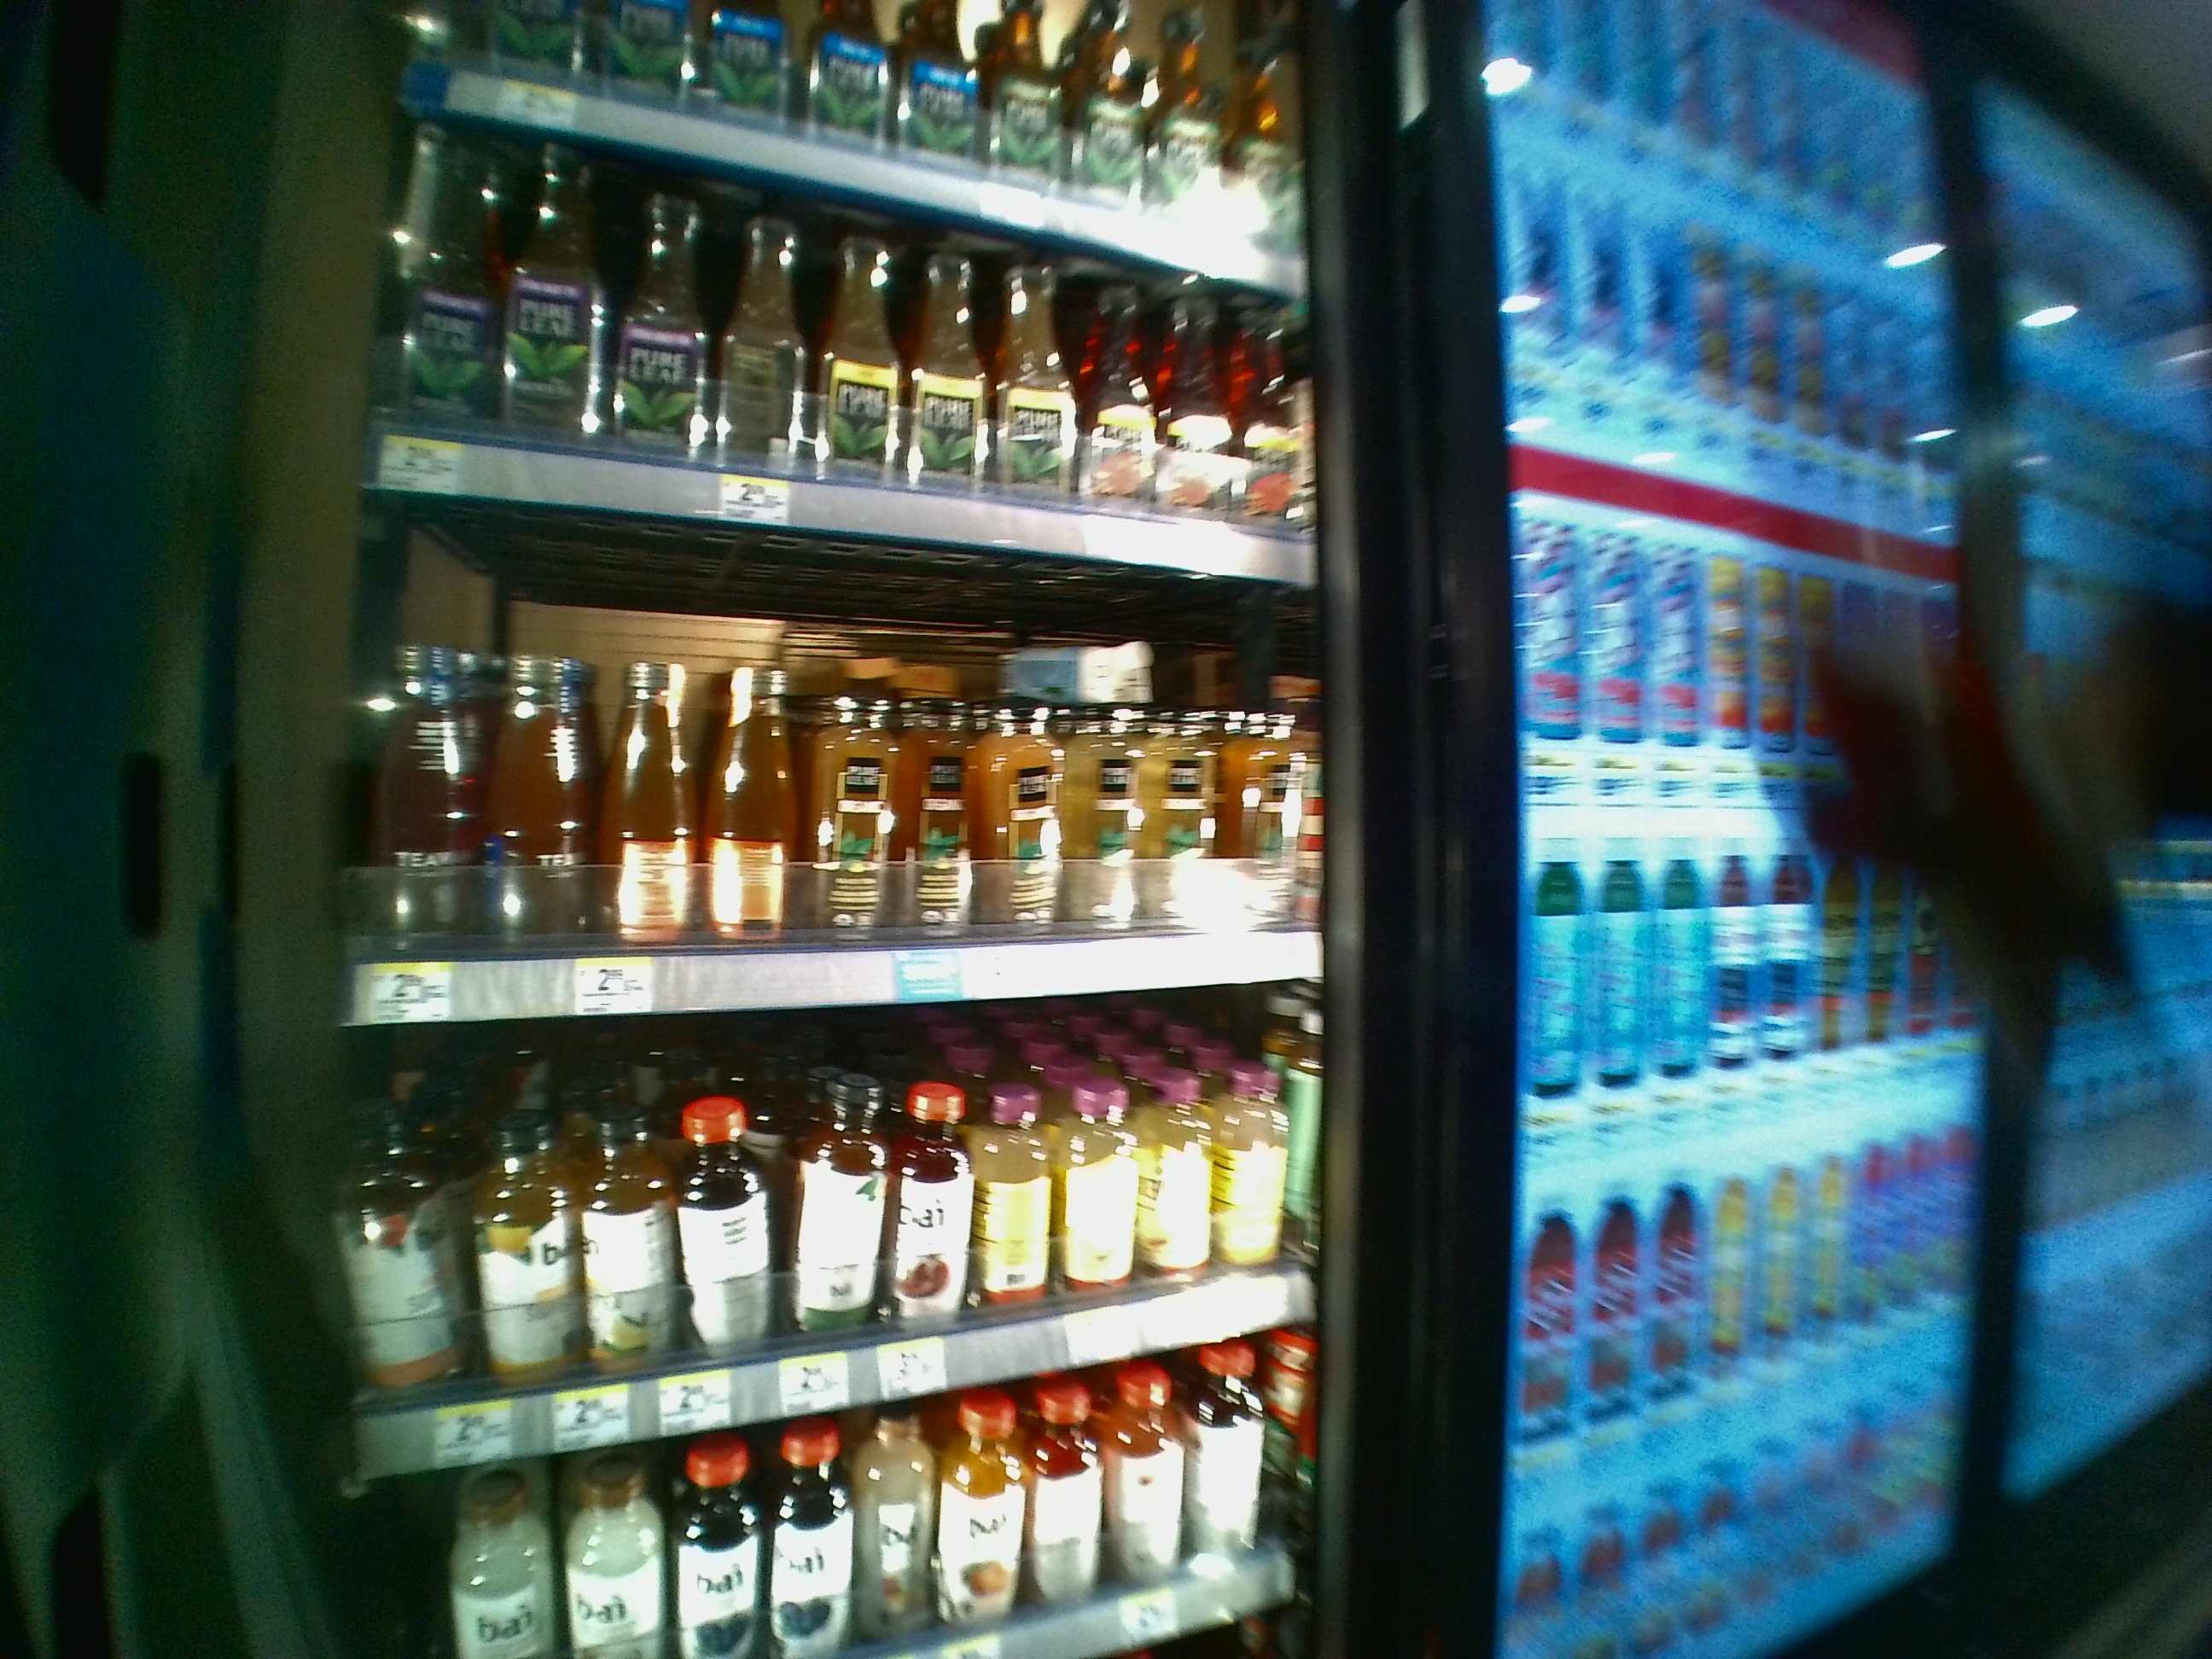shelf: (336, 507, 1325, 1025), (341, 1030, 1320, 1467)
